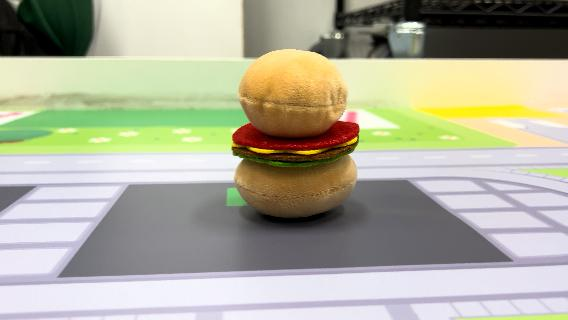burger: (227, 46, 365, 220)
